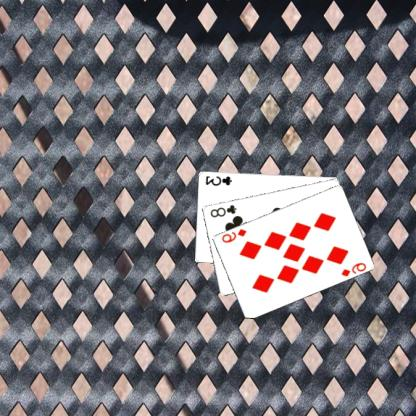3C: (204, 173, 234, 187)
8C: (210, 202, 240, 218)
9D: (220, 226, 250, 244), (340, 260, 369, 278)
